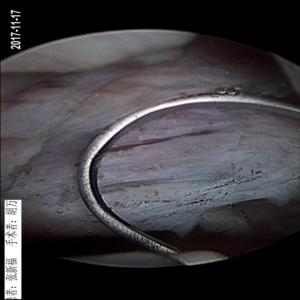film: (92, 117, 230, 160)
